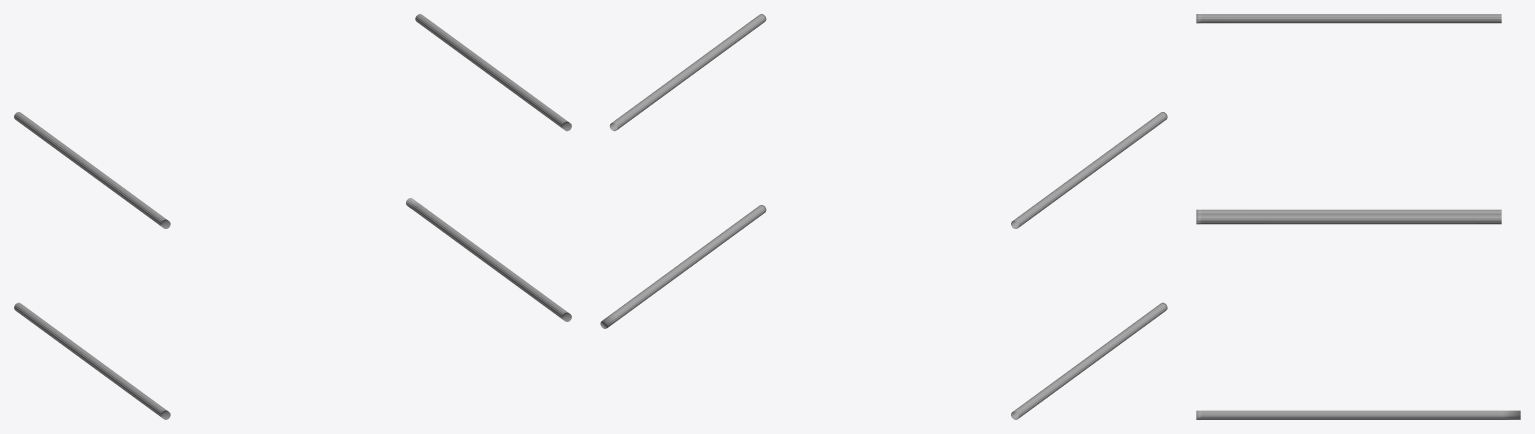
Rendered from TablemeshDiningTable_027_0_GeomSubset_1.obj.
3 views of the same model, side by side, from view 1: azimuth 30°, elevation 25°; view 2: azimuth 150°, elevation 25°; view 3: azimuth 270°, elevation 25° (orthographic). The views are drawn at different scales.
Parts seen in each view (by area): view 1: TablemeshDiningTable_027_0_GeomSubset_1; view 2: TablemeshDiningTable_027_0_GeomSubset_1; view 3: TablemeshDiningTable_027_0_GeomSubset_1.
Boxes of the visible parts, <box> form: TablemeshDiningTable_027_0_GeomSubset_1: <box>14,14,571,419</box>; TablemeshDiningTable_027_0_GeomSubset_1: <box>600,14,1167,419</box>; TablemeshDiningTable_027_0_GeomSubset_1: <box>1196,14,1520,419</box>.
Bounding box in the file's own units: 1.12 × 0.5215 × 0.7511.
